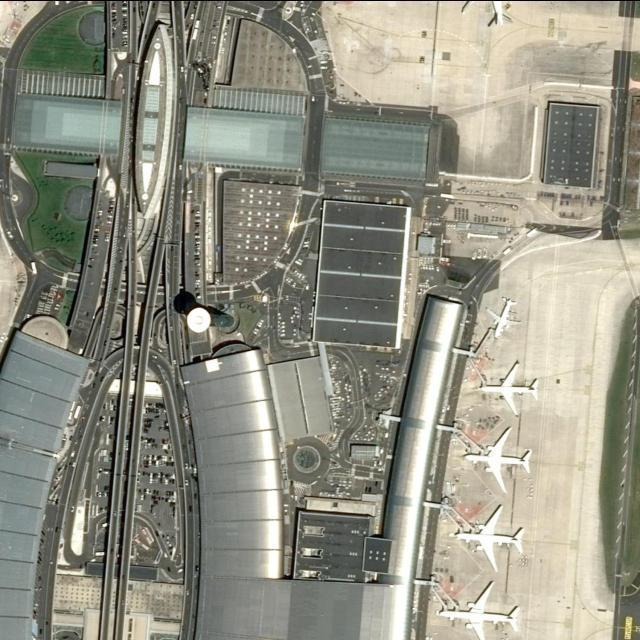Aircraft: (437, 578, 521, 640), (452, 503, 526, 570), (463, 425, 533, 493), (475, 359, 540, 416), (486, 294, 520, 338), (471, 0, 517, 30)
